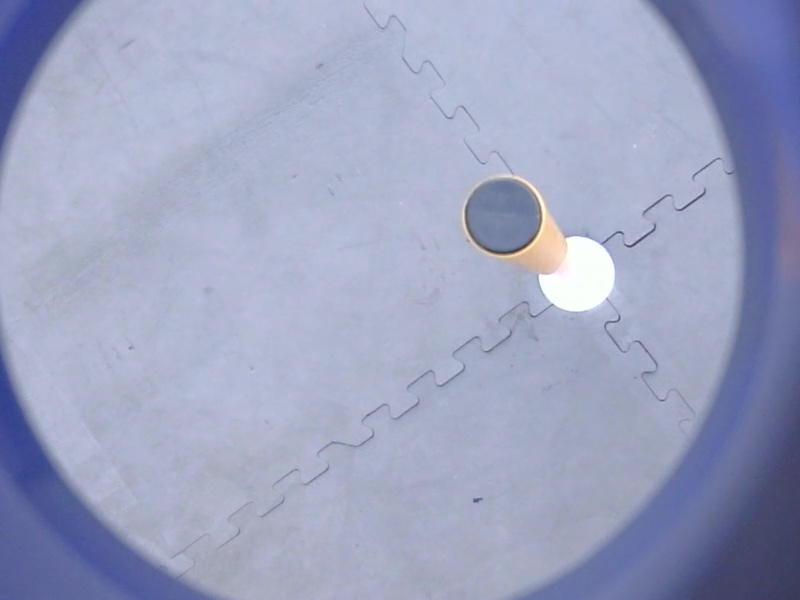tip: (457, 169, 551, 262)
